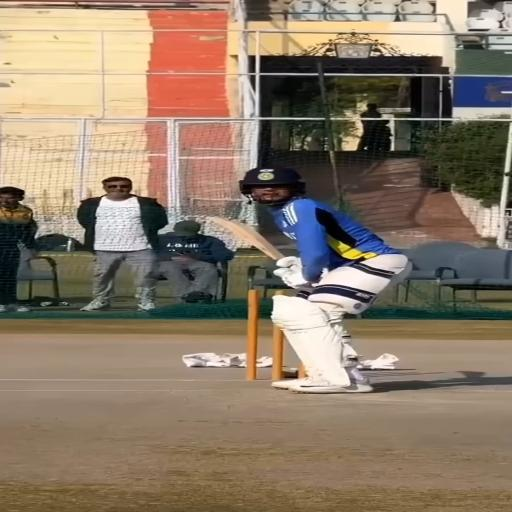Cricket bat: (208, 216, 283, 260)
